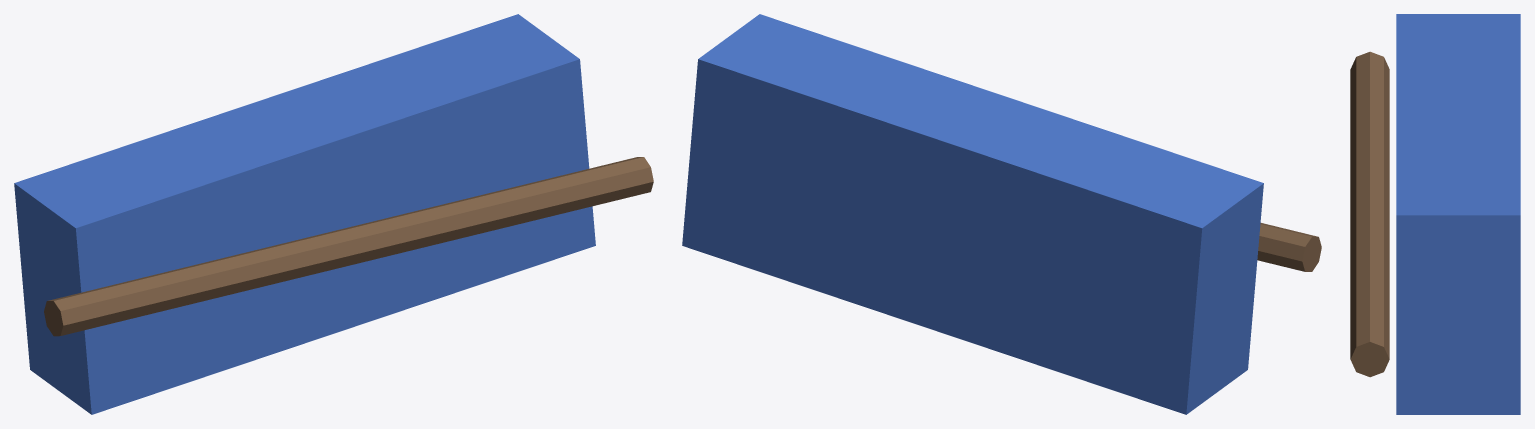
Rendered from skyship_canvas_sail_folded.glb.
3 renders of one model, left to right at view 1: azimuth 30°, elevation 25°; view 2: azimuth 150°, elevation 25°; view 3: azimuth 270°, elevation 25°, orthographic.
Parts seen in each view (by area): view 1: rolled_canvas, spar; view 2: rolled_canvas, spar; view 3: rolled_canvas, spar.
Boxes of the visible parts, x1,y1,x2,y2 form: rolled_canvas: (14,14,595,414); spar: (44,157,653,336); rolled_canvas: (682,14,1263,414); spar: (1257,223,1321,271); rolled_canvas: (1396,14,1520,414); spar: (1350,51,1389,377).
Size of the model in its own units: 2.1 by 0.8044 by 0.52.
